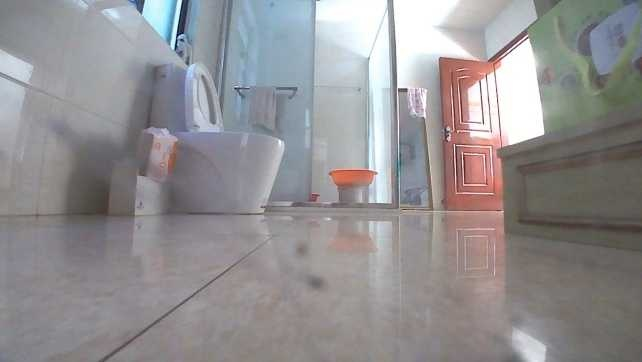door_anno: (435, 53, 505, 212)
toilet: (145, 60, 285, 217)
